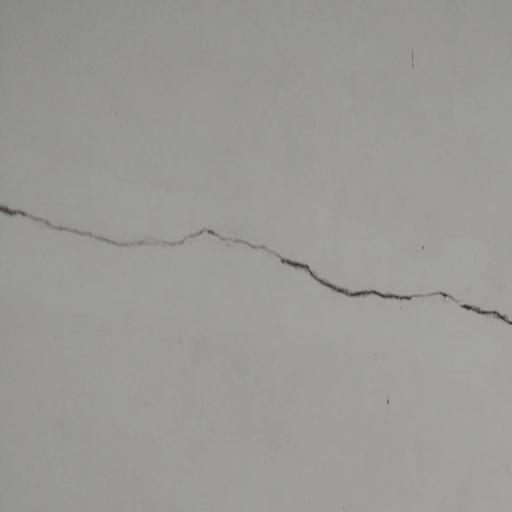minor_crack: (0, 195, 512, 337)
